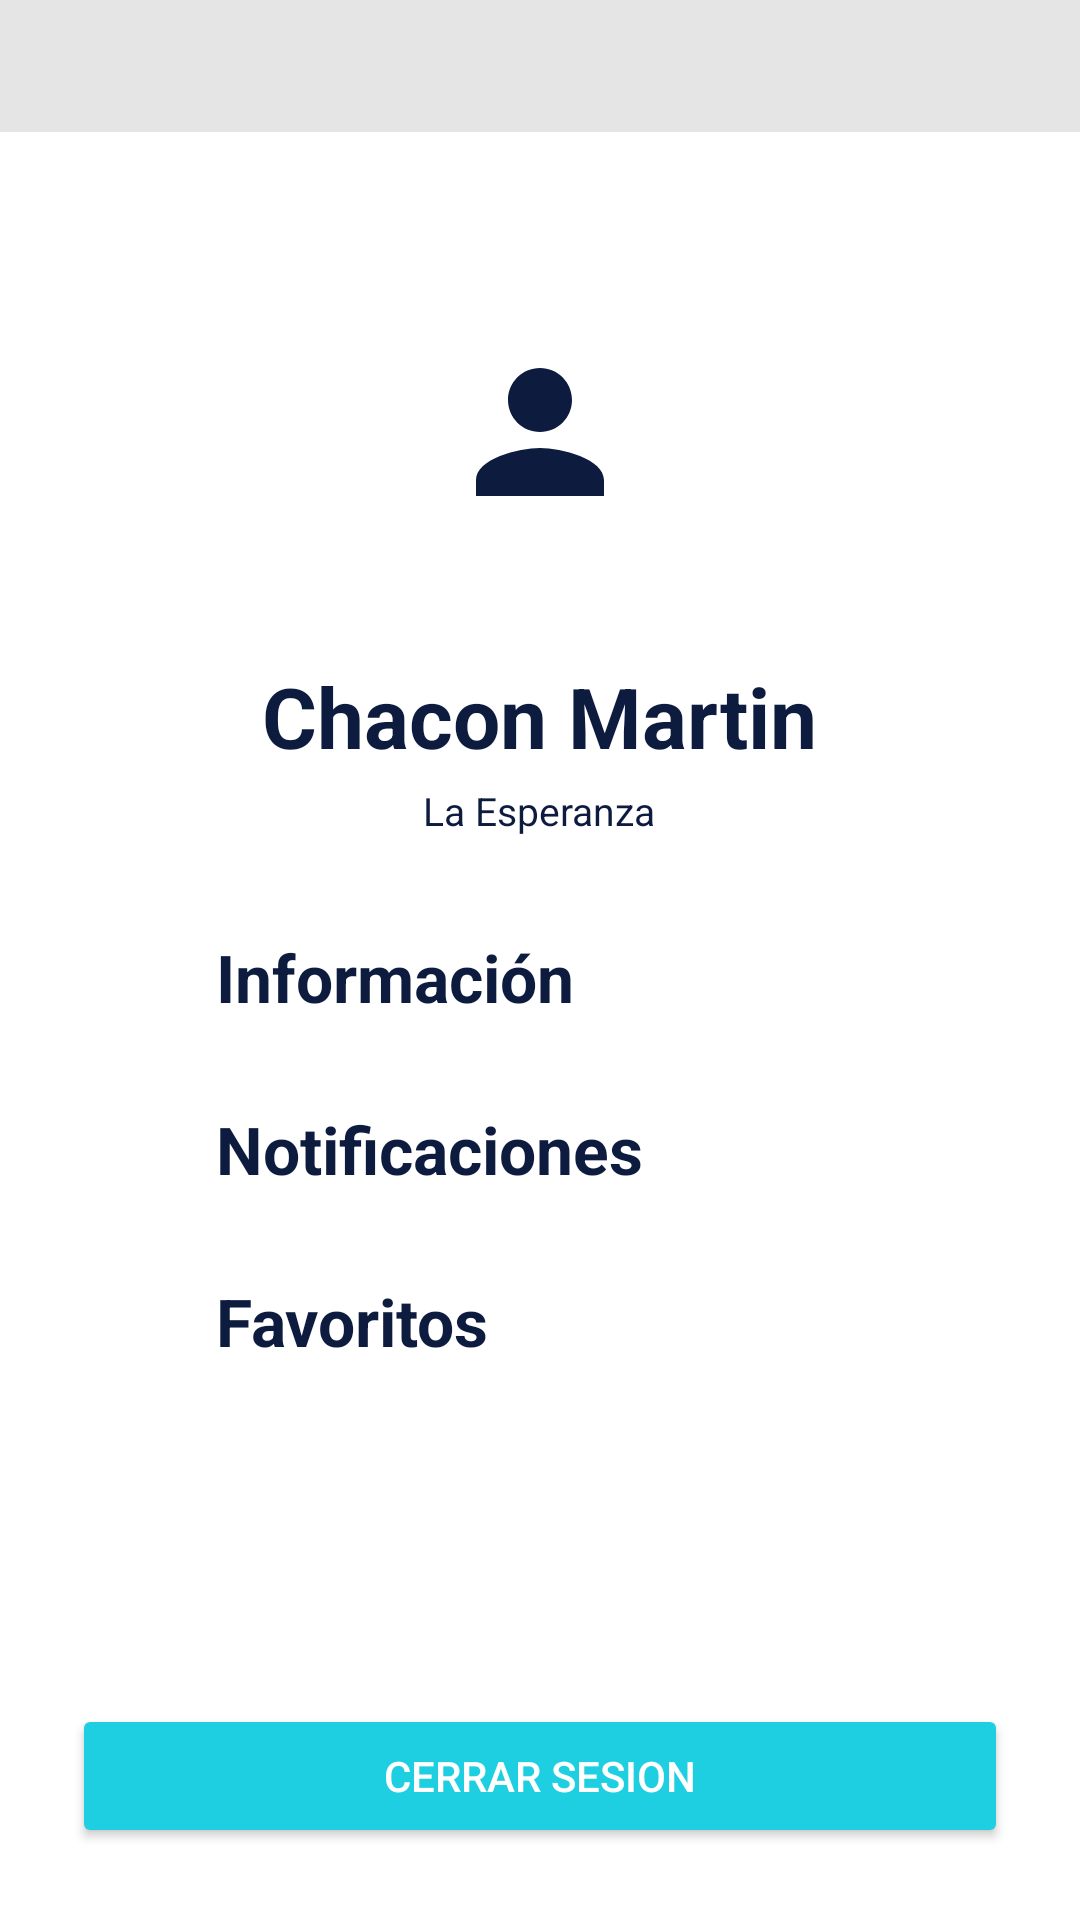

Icon click points for this 1080*1920 phone screenshot, format (x,y):
Avatar: (540,432)
